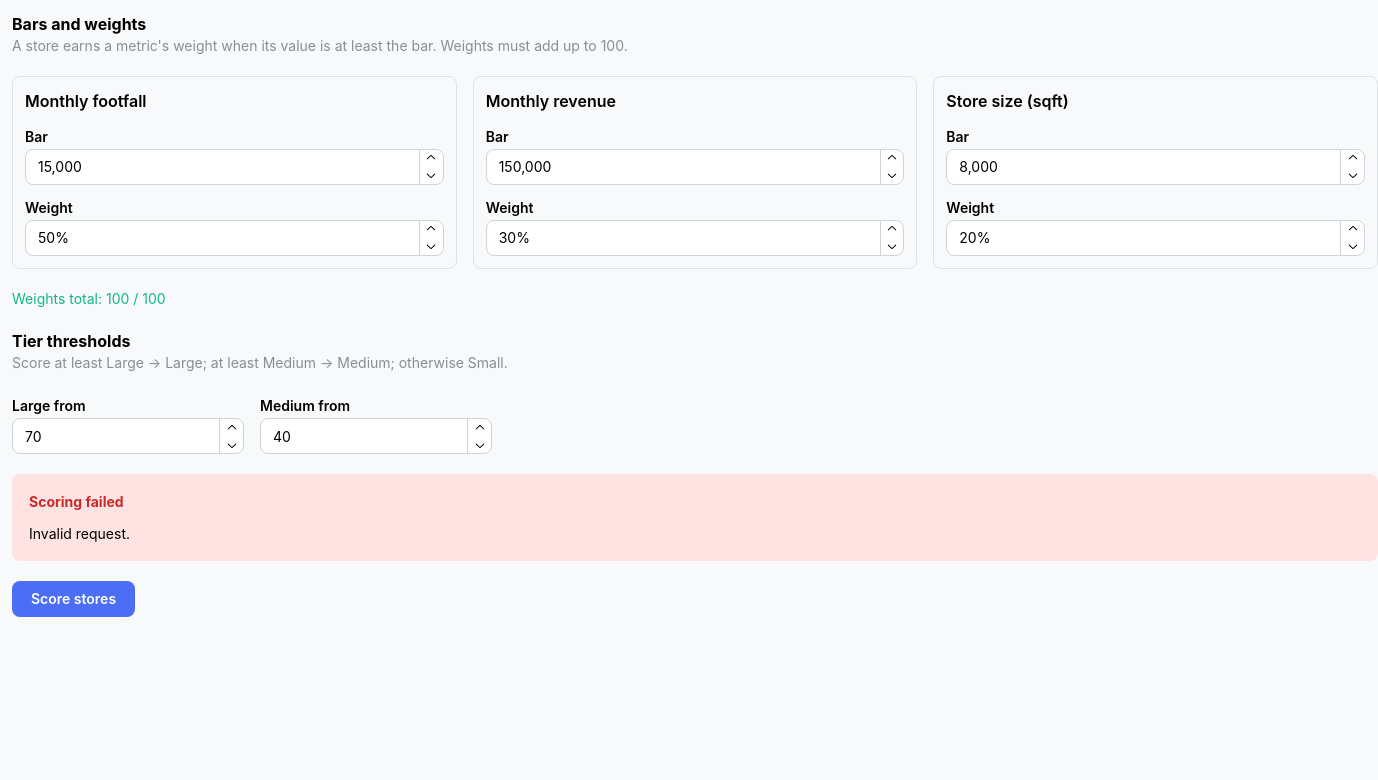
Test case: ScoringForm › shows the API’s field errors next to their inputs
Click the button "Score stores".
click(74, 600)  # box [12, 582, 135, 618]
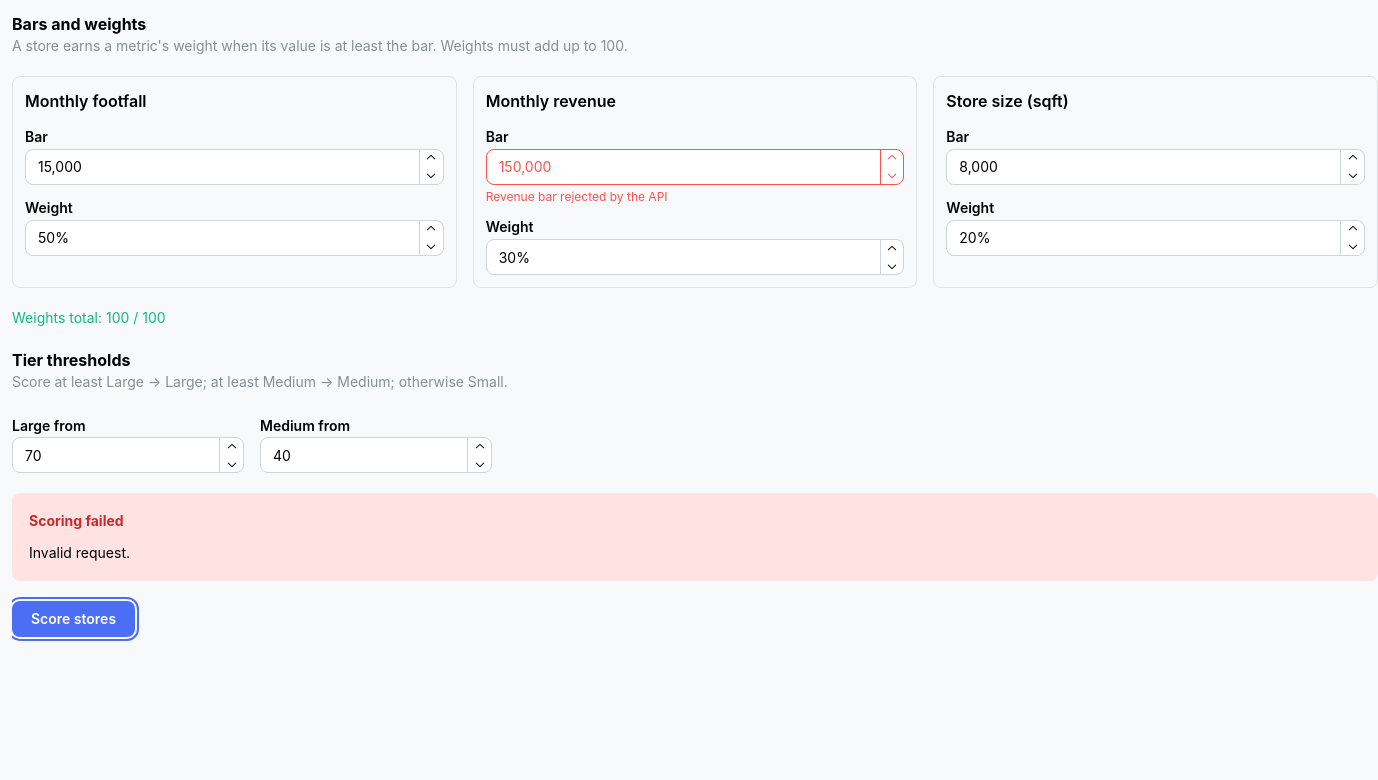
Expected: the message "Scoring failed Invalid request." does not show "bars.revenue", [12, 494, 1377, 581]
Expected: the text "Revenue bar rejected by the API" is shown, [486, 189, 668, 204]
